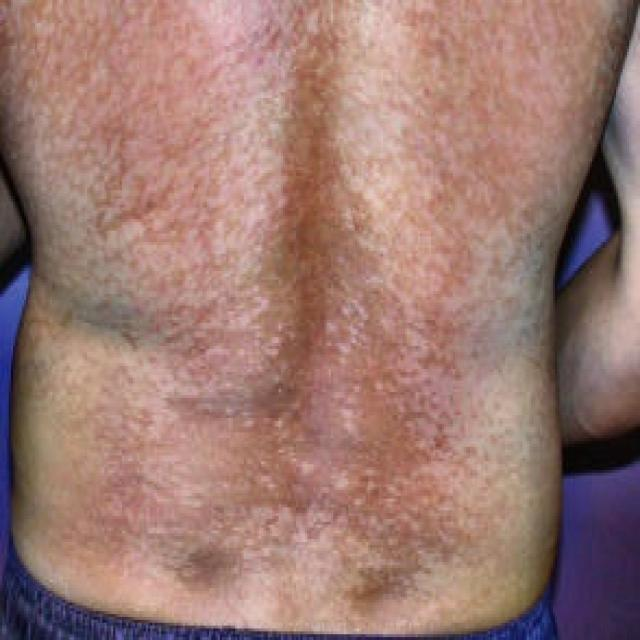Tinea Ringworm Candidiasis and other Fungal Infections: (61, 40, 495, 602)
